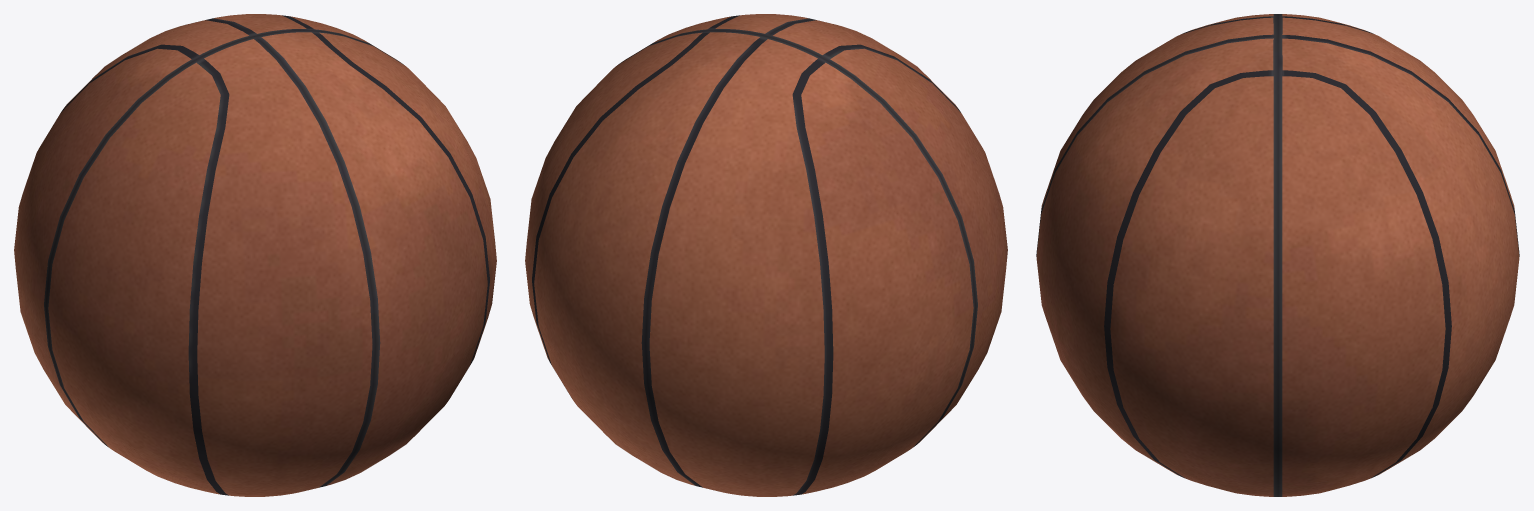
Rendered from KB3D_API_Loft_A_BasketballA.fbx.
3 renders of one model, left to right at view 1: azimuth 30°, elevation 25°; view 2: azimuth 150°, elevation 25°; view 3: azimuth 270°, elevation 25°, orthographic.
Parts seen in each view (by area): view 1: KB3D_API_Loft_A_BasketballA; view 2: KB3D_API_Loft_A_BasketballA; view 3: KB3D_API_Loft_A_BasketballA.
Boxes of the visible parts, x1,y1,x2,y2 form: KB3D_API_Loft_A_BasketballA: (14, 14, 496, 496); KB3D_API_Loft_A_BasketballA: (525, 14, 1007, 496); KB3D_API_Loft_A_BasketballA: (1036, 14, 1519, 496).
Size of the model in its own units: 35.03 by 35.03 by 35.03.
